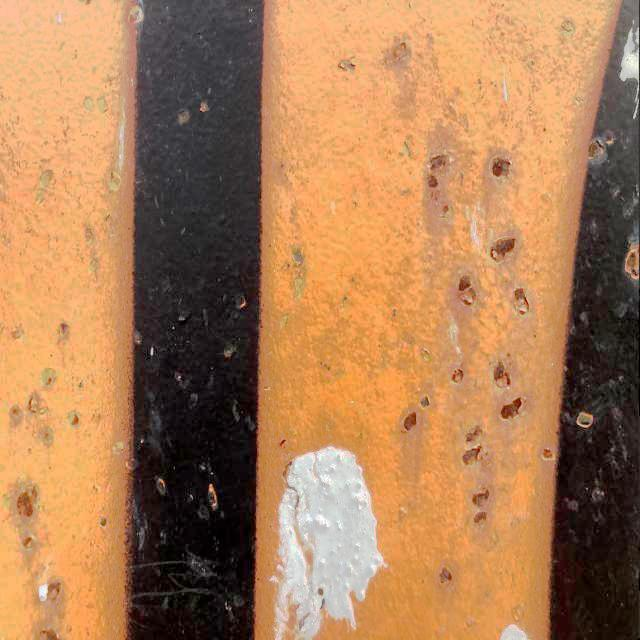Corrosion: (427, 153, 452, 218), (460, 423, 490, 469), (14, 486, 40, 523), (469, 484, 491, 526), (500, 392, 526, 424), (624, 239, 640, 282), (490, 358, 511, 387), (298, 611, 320, 638), (459, 275, 478, 306), (492, 238, 516, 262), (586, 136, 606, 161), (33, 624, 61, 640), (515, 288, 531, 316), (437, 562, 454, 588), (403, 408, 419, 433), (492, 156, 512, 176), (45, 579, 66, 598), (27, 393, 40, 414), (450, 367, 464, 385), (536, 448, 553, 461), (41, 370, 53, 386), (294, 248, 304, 266), (22, 538, 32, 550), (69, 414, 79, 426), (59, 323, 69, 334), (10, 407, 20, 416), (43, 432, 49, 442)
